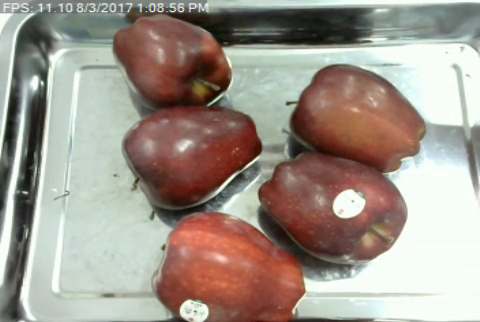Apple: (256, 149, 409, 267), (150, 209, 308, 322), (287, 61, 427, 175), (119, 103, 265, 212), (111, 8, 234, 109)
